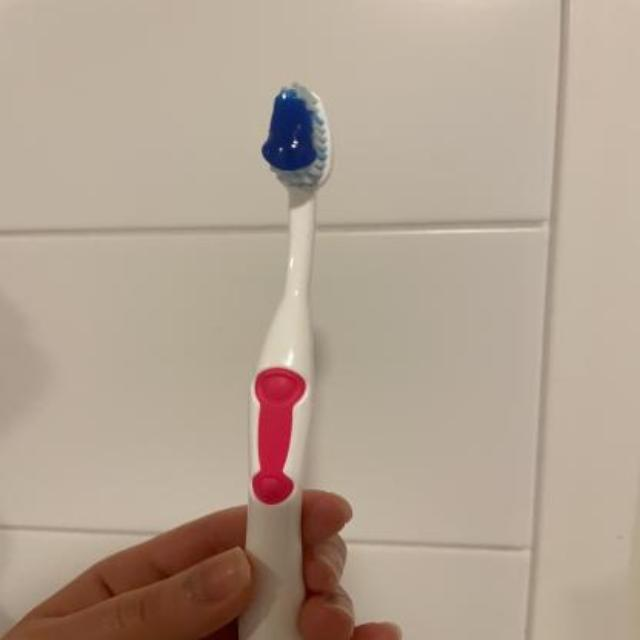toothbrush: (238, 70, 344, 640)
